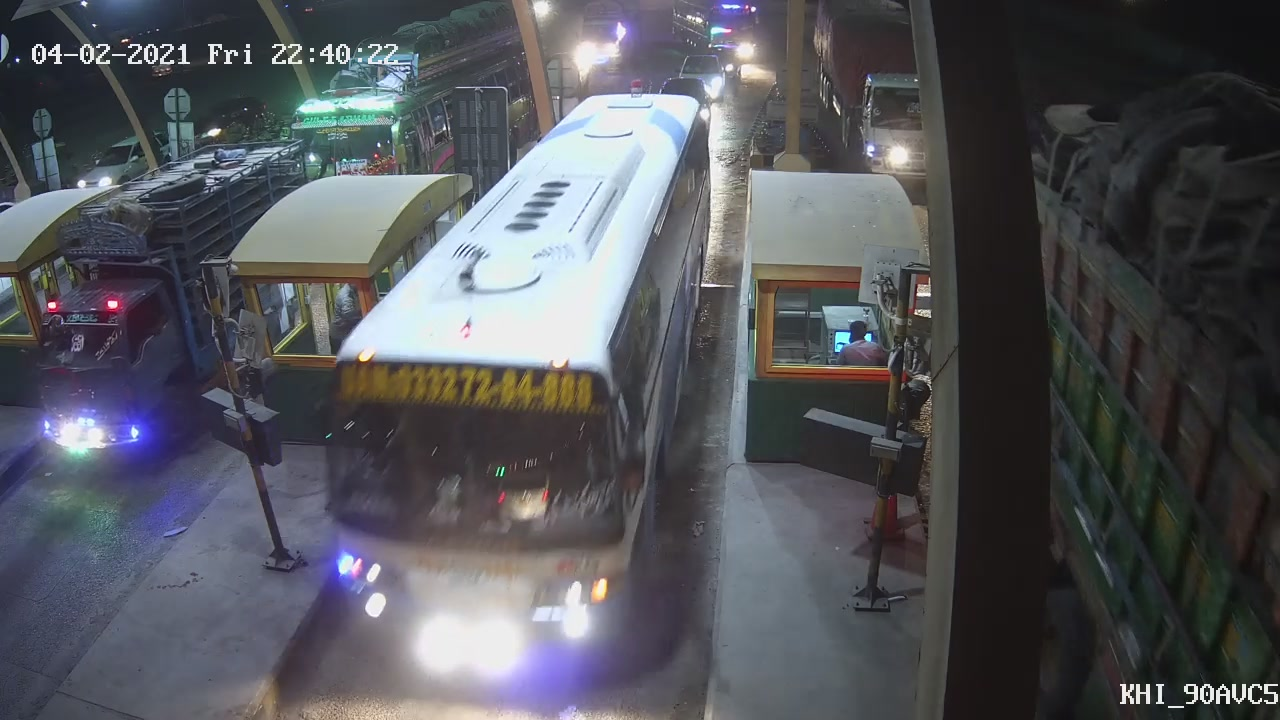F4: (320, 92, 720, 686)
